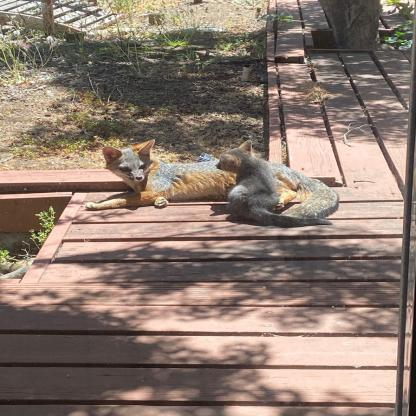zorro: (76, 133, 352, 231), (214, 136, 338, 234)
